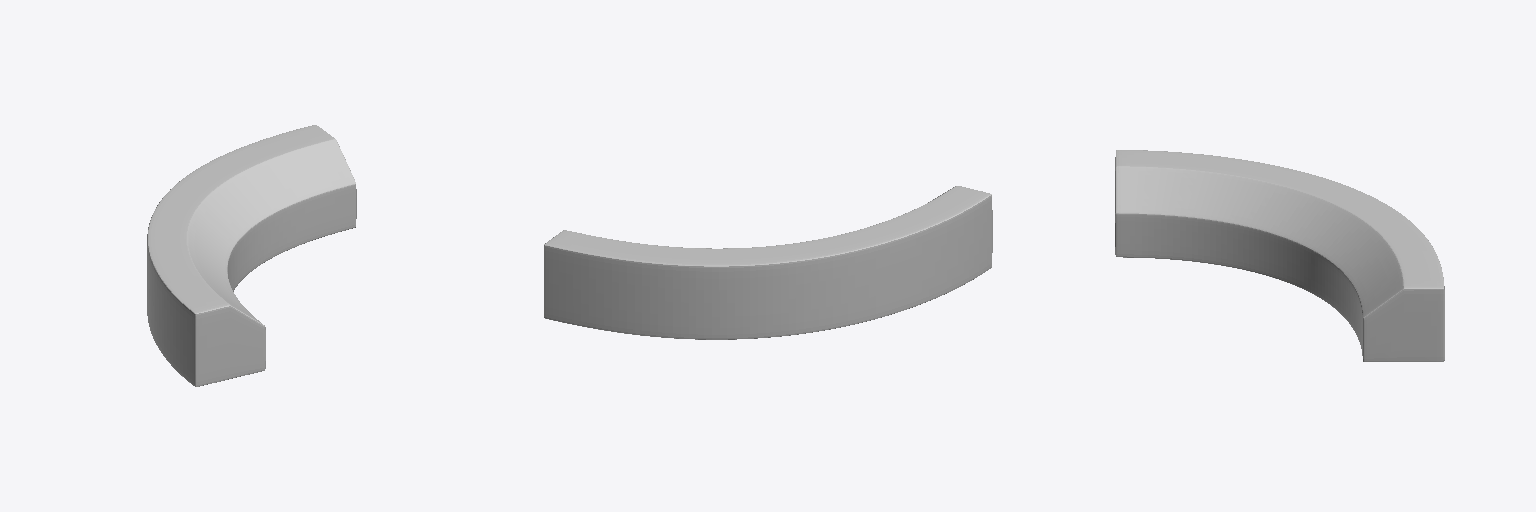
File: OutsideBend_HP.obj
3 renders of one model, left to right at view 1: azimuth 30°, elevation 25°; view 2: azimuth 150°, elevation 25°; view 3: azimuth 270°, elevation 25°, orthographic.
Parts seen in each view (by area): view 1: OutsideBend; view 2: OutsideBend; view 3: OutsideBend.
Part boxes in pixels (bbox=[...]): OutsideBend: bbox=[147, 125, 356, 386]; OutsideBend: bbox=[544, 186, 992, 339]; OutsideBend: bbox=[1115, 150, 1444, 361].
Bounding box in the file's own units: 4 × 0.9998 × 4.